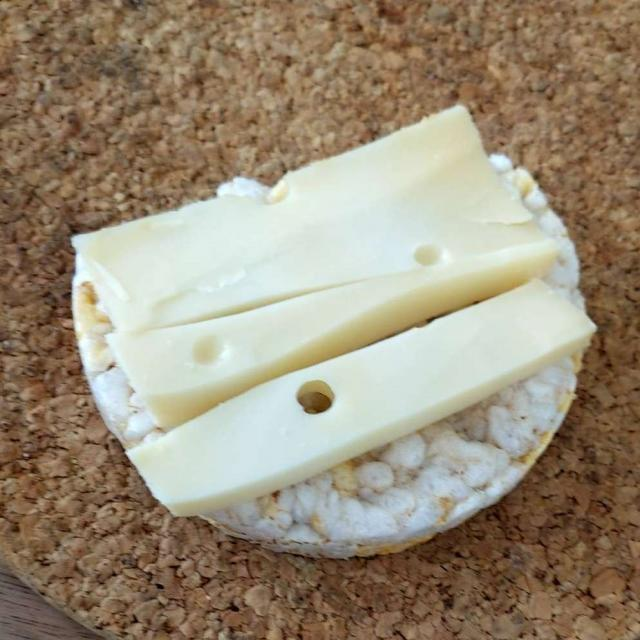cheese: (73, 99, 595, 522)
rice: (72, 141, 586, 549)
